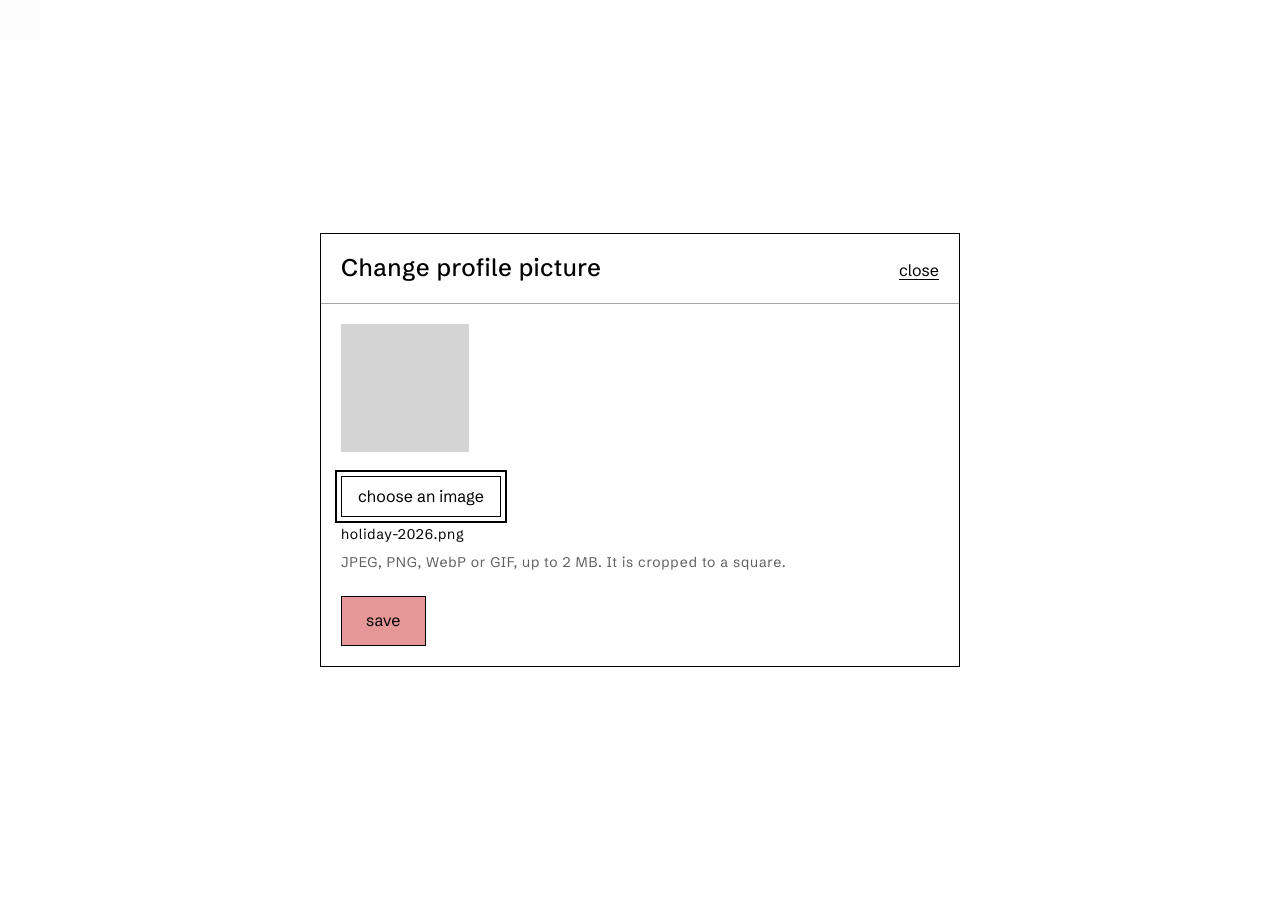
Test case: AvatarUploadDialog (F-34, F-35, F-38; B-96, B-97) › starts empty again after it was closed with a file chosen
Earlier steps of the test are not shown.
Step 1. Click the button "close" → [919, 271], box [899,259,939,283]
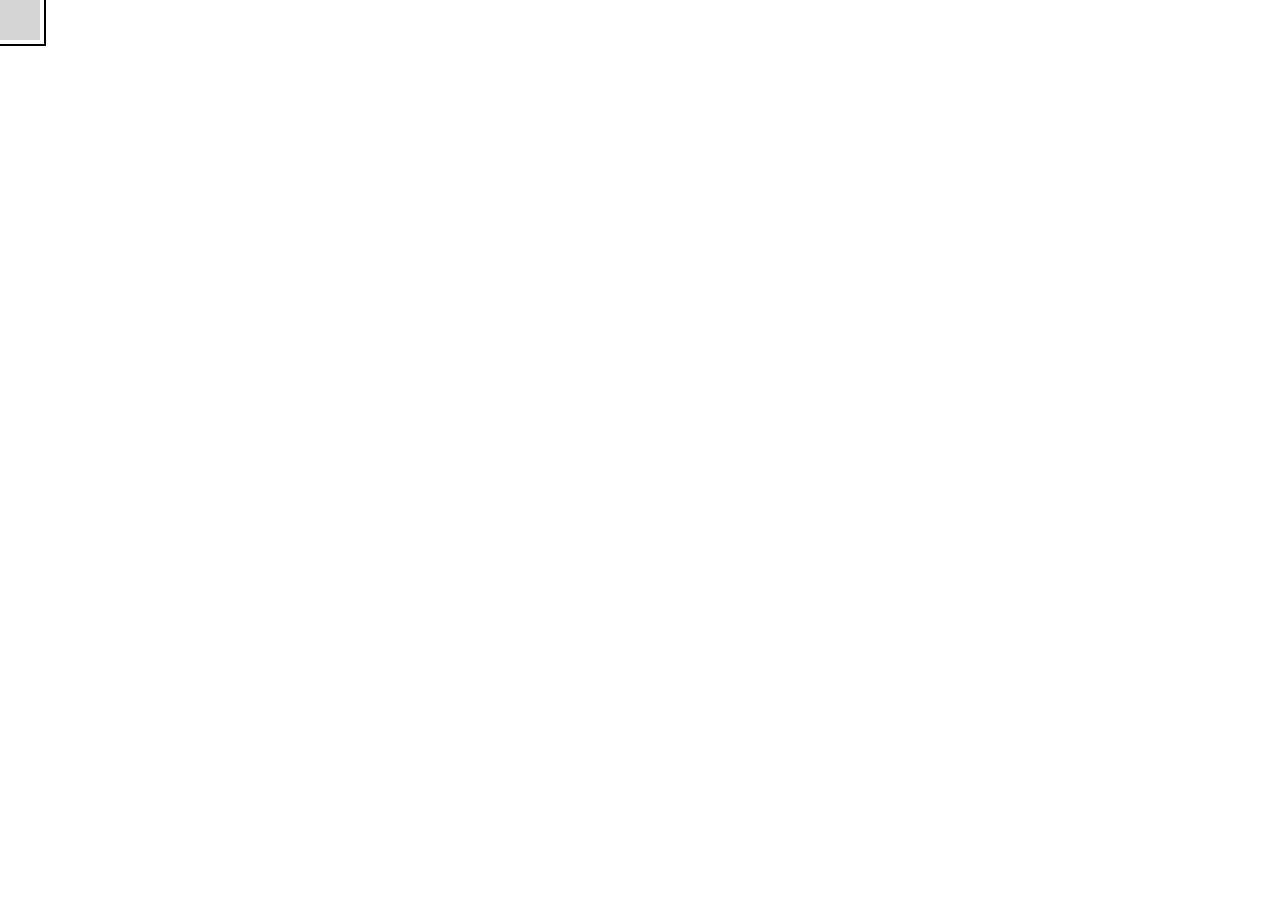
Step 2. Click the button named "Change profile picture" → [20, 20], box [0,0,40,40]
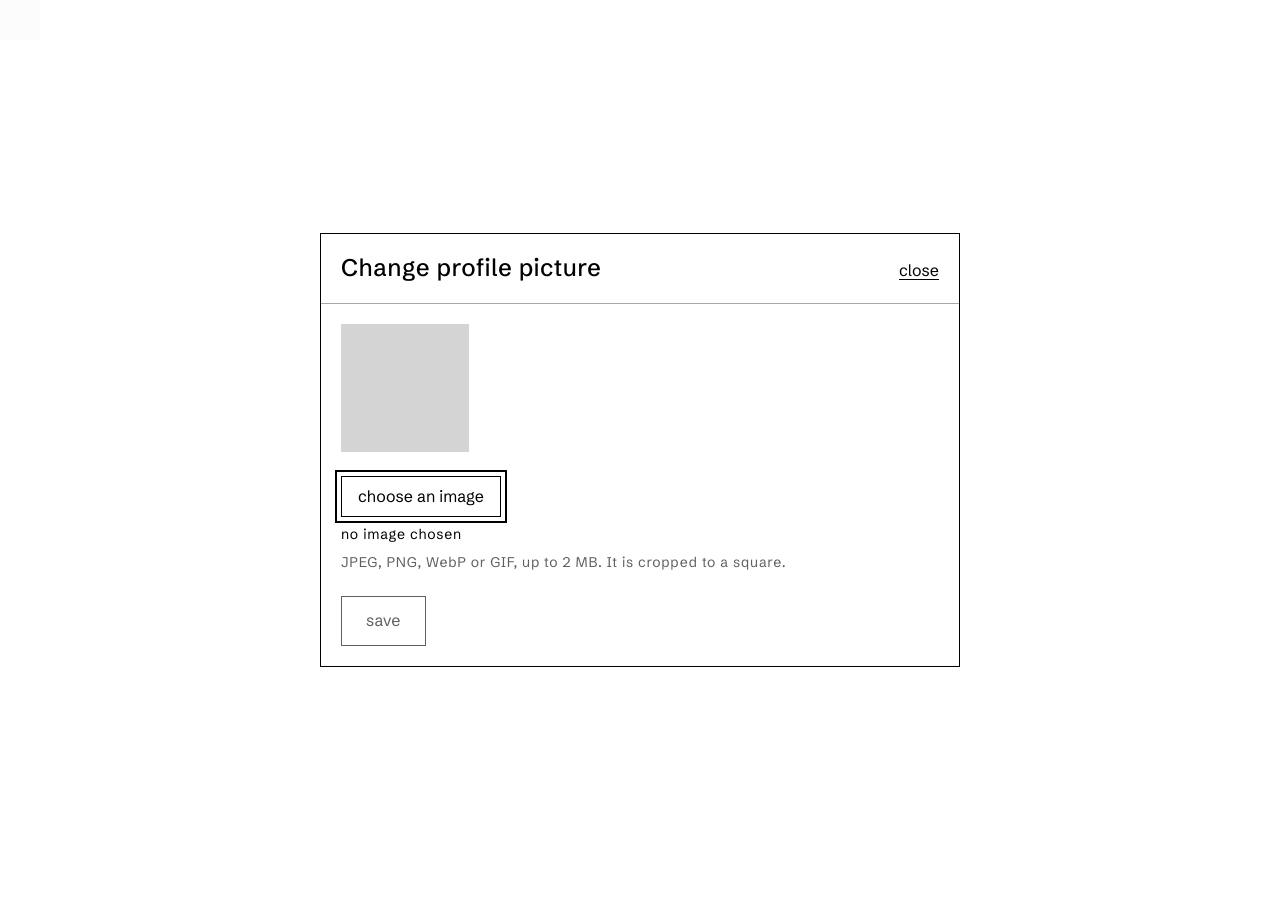
Expected: the button "save" is disabled, [341,596,426,646]
